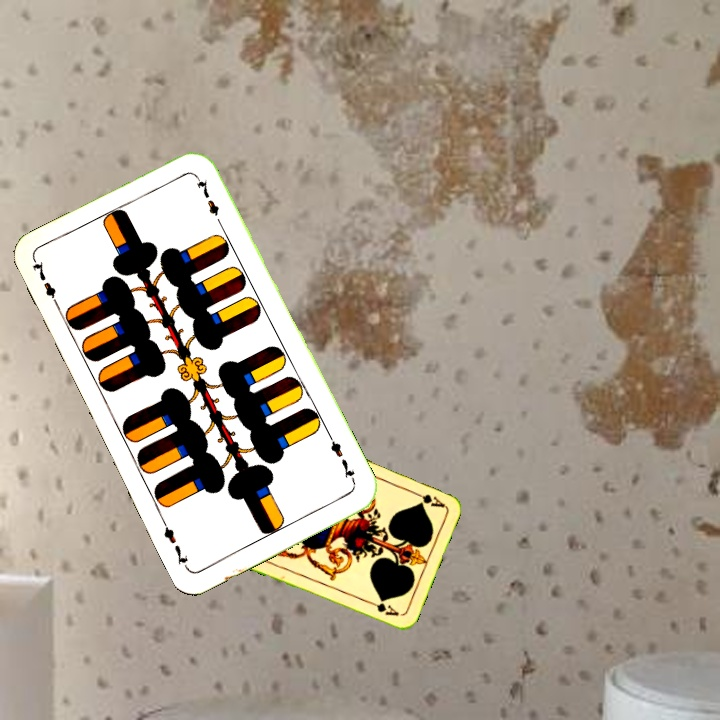E7: (28, 257, 63, 312), (325, 431, 358, 486)
GA: (408, 487, 447, 510)
